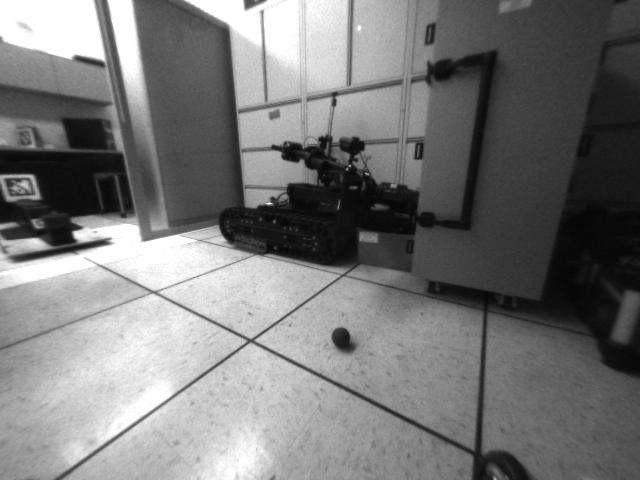dogtoy: (328, 321, 357, 357)
